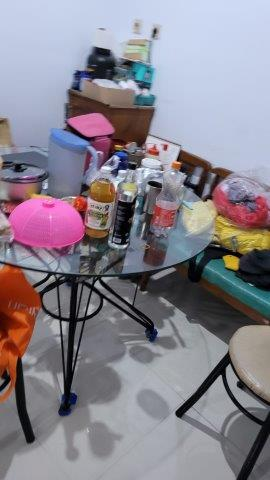botolkaca: (110, 162, 138, 253)
